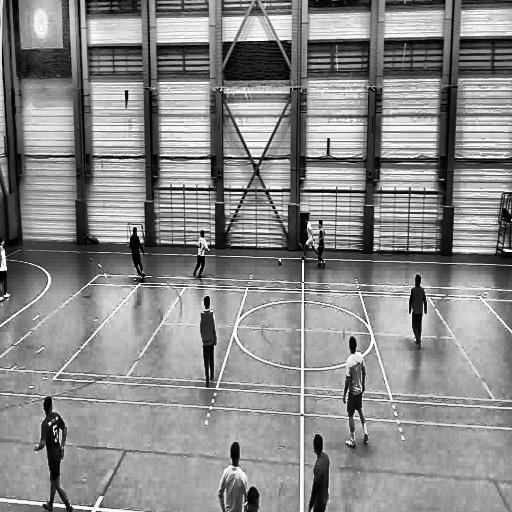ball: (278, 257, 283, 267)
player: (33, 395, 74, 512), (342, 335, 370, 451), (218, 440, 248, 512), (307, 430, 330, 512), (199, 294, 218, 390), (408, 272, 428, 352), (128, 226, 147, 284), (301, 216, 322, 264), (193, 228, 211, 279), (0, 235, 11, 304), (317, 221, 327, 270)
